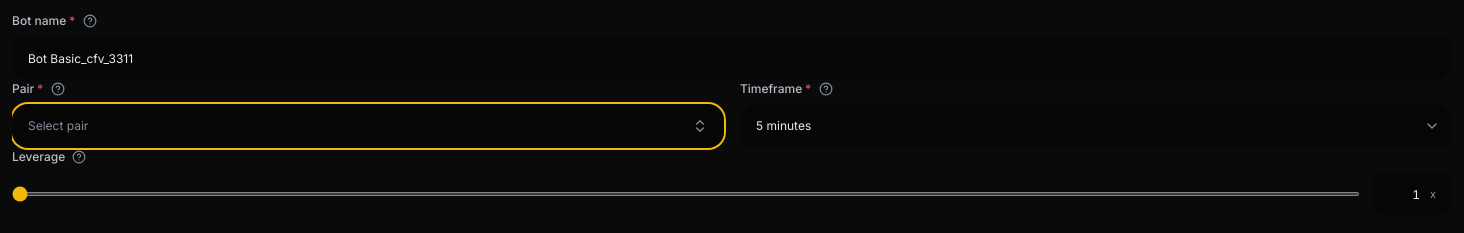
Test: BotConfigSetup leverage control › syncs direct number entry back to the slider and clamps above 50x
Replace the text in the number field named "Leverage value" with "43": point(1412, 194) [1372, 172, 1452, 216]
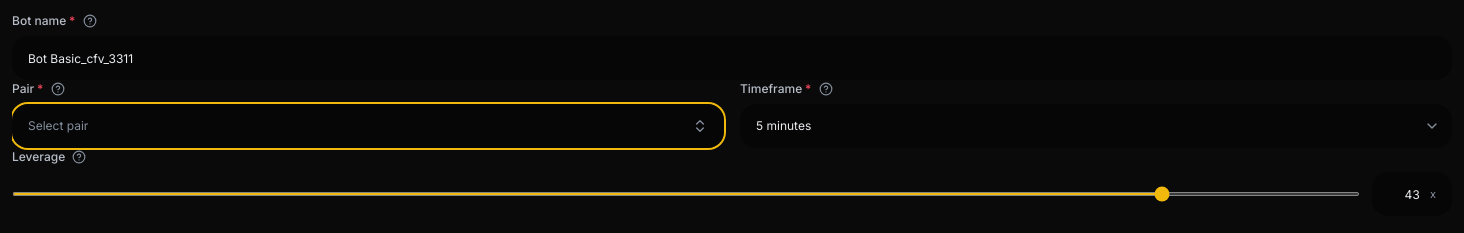
Expected: the slider named "Leverage" holds "43", [12, 192, 1360, 196]
Replace the text in the number field named "Leverage value" with "60": point(1412, 194) [1372, 172, 1452, 216]
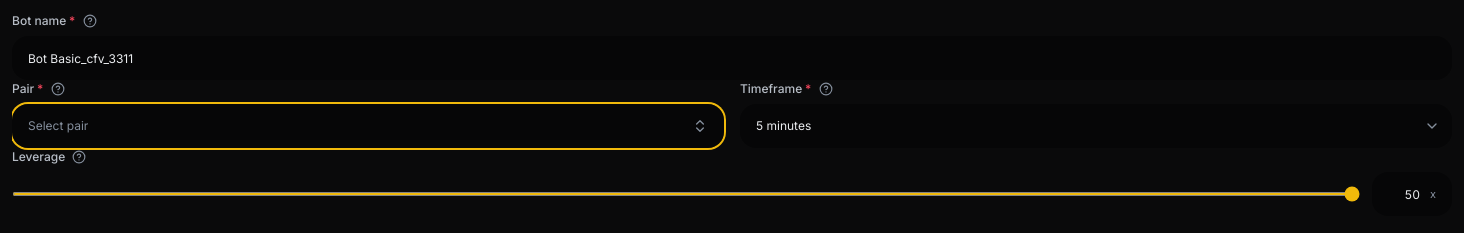
Expected: the slider named "Leverage" holds "50", [12, 192, 1360, 196]
Expected: the number field named "Leverage value" holds "50", [1372, 172, 1452, 216]
